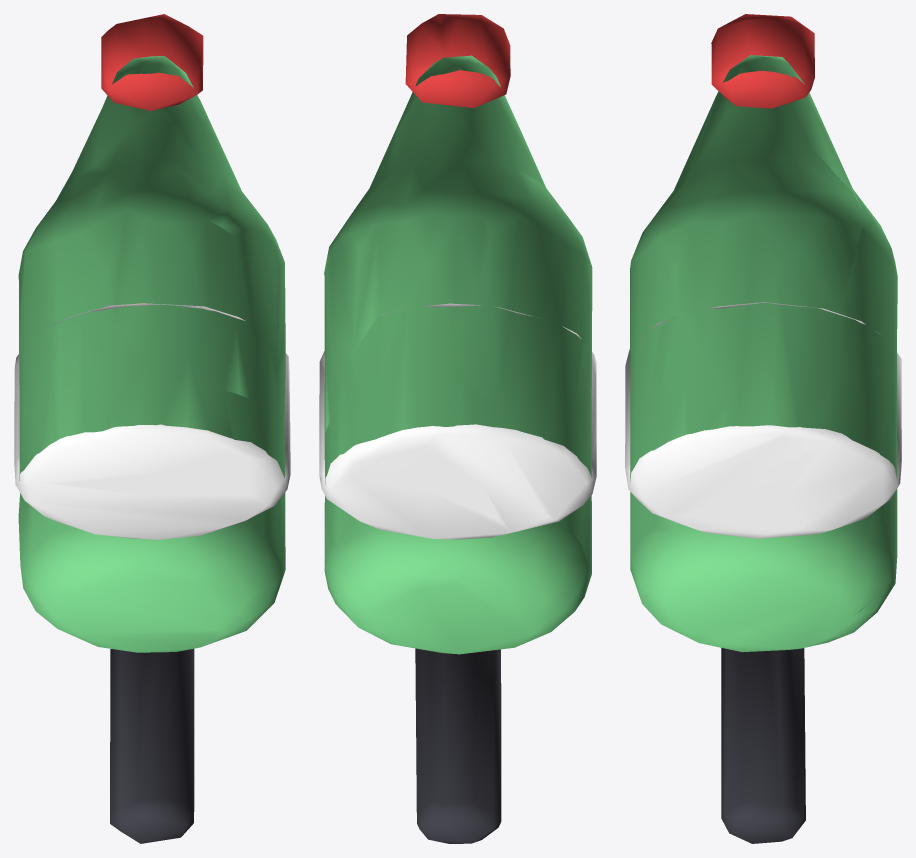
File: wpn_fizzante.glb
3 views of the same model, side by side, from view 1: azimuth 30°, elevation 25°; view 2: azimuth 150°, elevation 25°; view 3: azimuth 270°, elevation 25° (orthographic).
Visible parts, largest first — view 1: body; view 2: body; view 3: body.
Boxes of the visible parts, x1=… form: body: x1=14, y1=14, x2=290, y2=843; body: x1=319, y1=14, x2=596, y2=843; body: x1=625, y1=14, x2=901, y2=843.
Size of the model in its own units: 0.5793 by 1.85 by 0.5797.
Materials: 1 (1 with a texture image).
